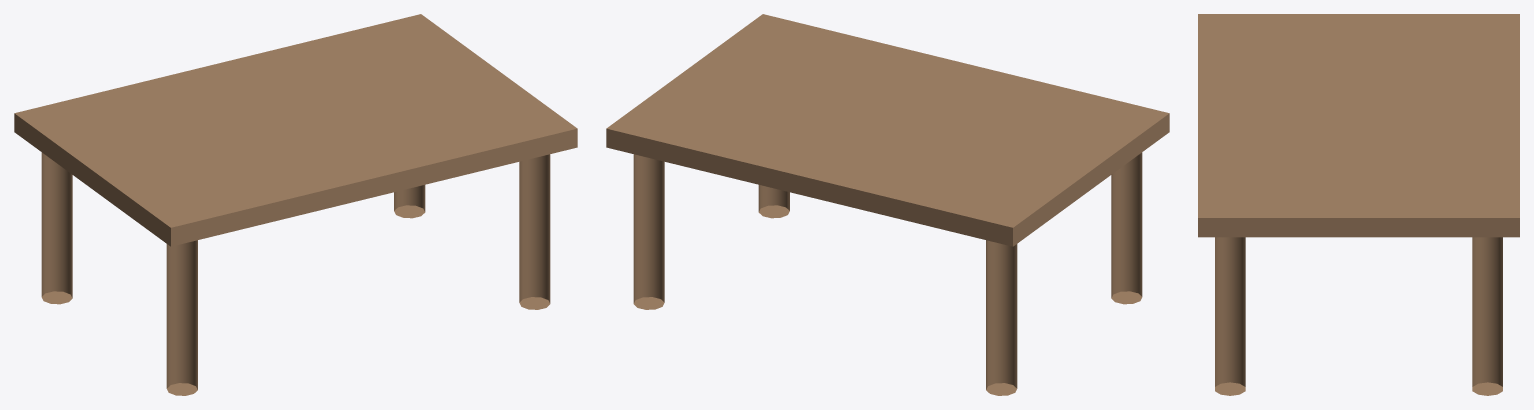
The model's file is coffee_table_01.glb.
The picture shows the model from 3 angles, left to right: view 1: azimuth 30°, elevation 25°; view 2: azimuth 150°, elevation 25°; view 3: azimuth 270°, elevation 25°; orthographic projection. The views are drawn at different scales.
Bounding box in the file's own units: 0.9 × 0.38 × 0.6.
